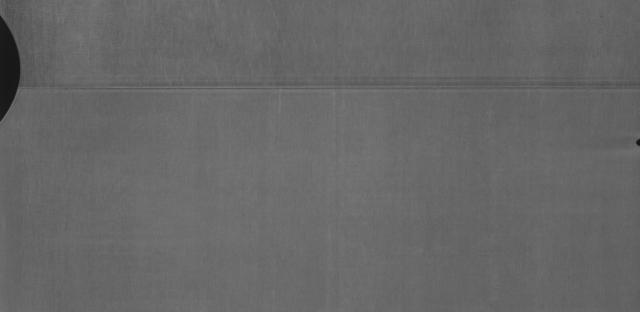crescent_gap: (0, 11, 27, 128)
punching_hole: (630, 137, 640, 147)
welding_line: (13, 76, 640, 98)
